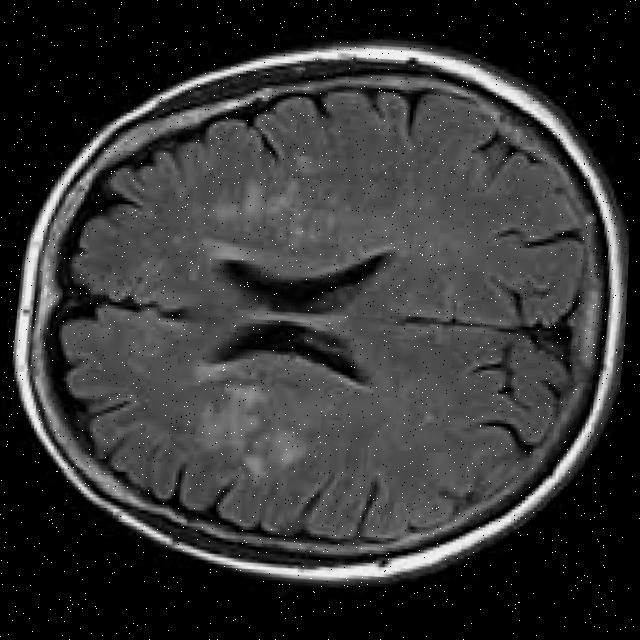NoTumor: (0, 20, 639, 602)
